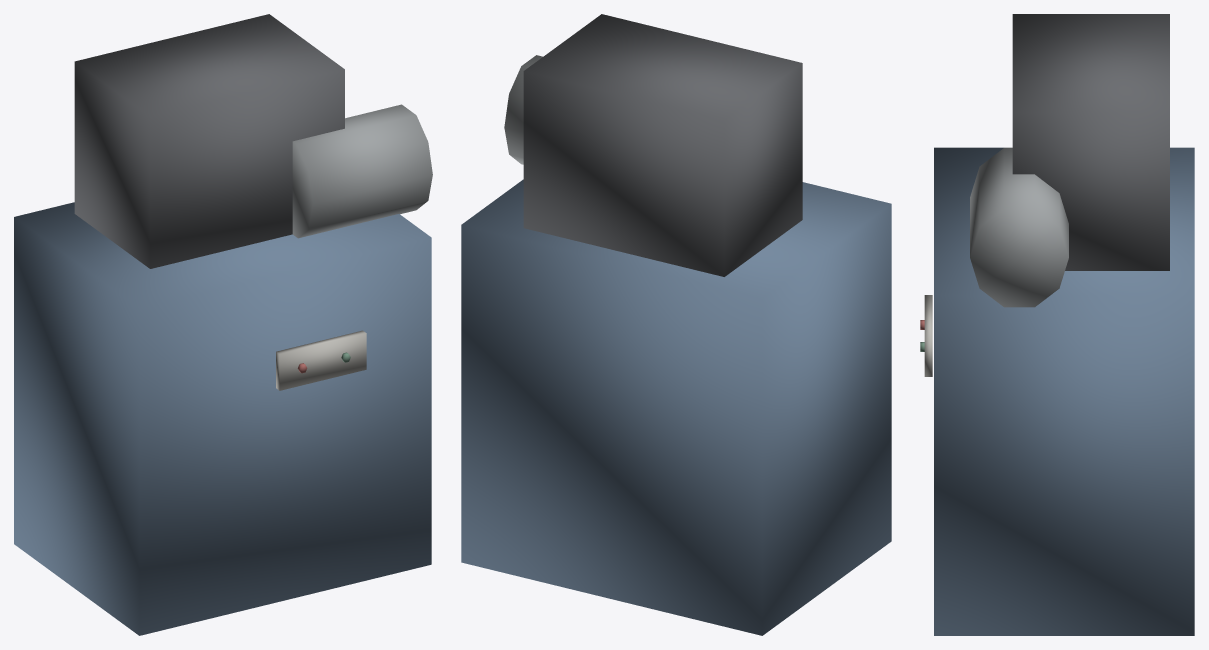
Rendered from rolling_tool_chest__tall.glb.
3 renders of one model, left to right at view 1: azimuth 30°, elevation 25°; view 2: azimuth 150°, elevation 25°; view 3: azimuth 270°, elevation 25°, orthographic. The views are drawn at different scales.
Visible parts, largest first — view 1: world; view 2: world; view 3: world.
Part boxes in pixels (x1,y1,x2,y2): world: (14,14,432,635); world: (461,14,891,635); world: (920,14,1194,635).
Size of the model in its own units: 0.83 by 1.22 by 0.611.
